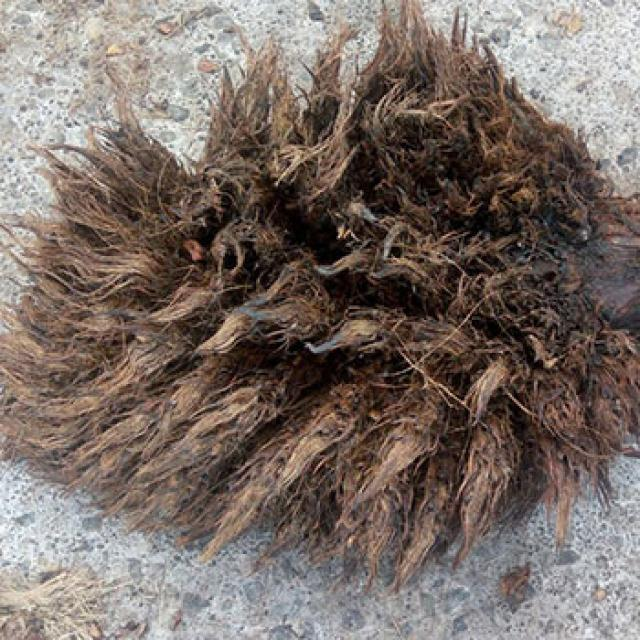others: (58, 90, 621, 507)
